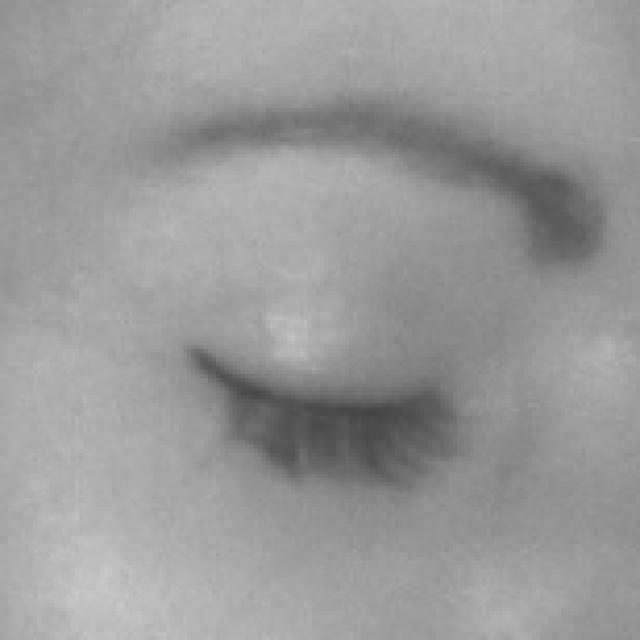close: (49, 45, 640, 566)
